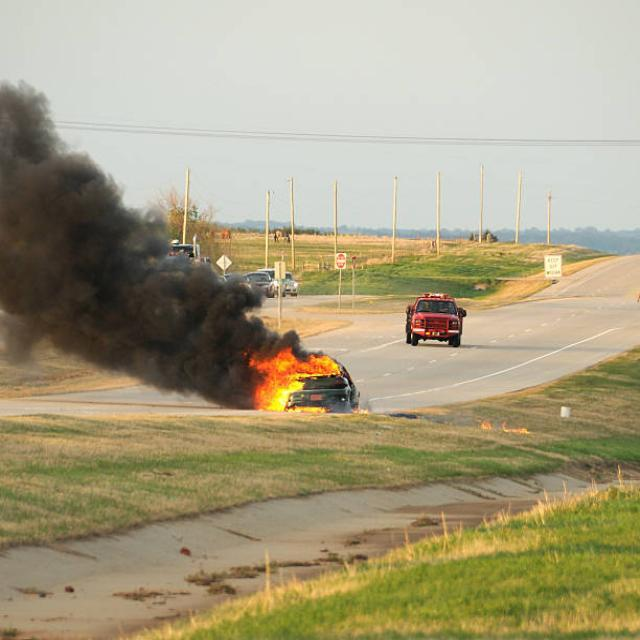Fire: (248, 349, 340, 412)
Smoke: (0, 84, 296, 408)
